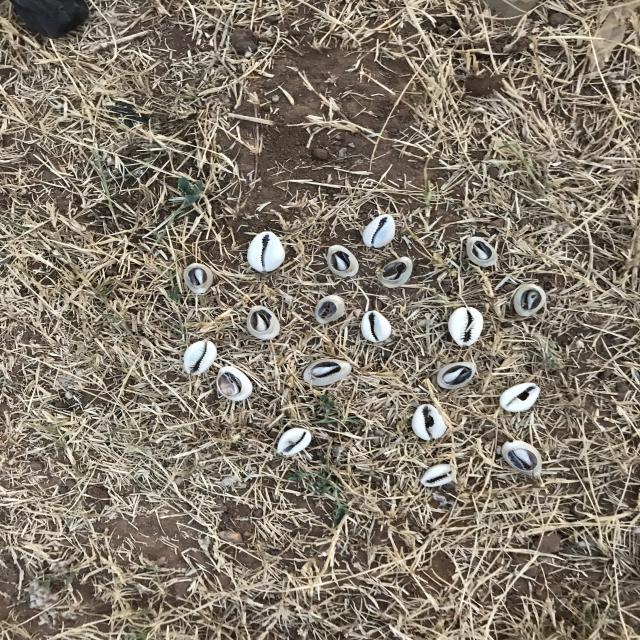facedown: (501, 438, 548, 480), (299, 356, 355, 388), (216, 365, 256, 406), (436, 357, 479, 392), (242, 305, 282, 342), (462, 235, 503, 267), (179, 261, 215, 297), (378, 256, 414, 290), (324, 243, 357, 279), (516, 284, 549, 318), (312, 295, 348, 323)
faceup: (408, 400, 451, 444), (247, 228, 286, 274), (444, 307, 486, 346), (179, 338, 219, 376), (500, 380, 540, 416), (273, 426, 311, 458), (361, 214, 395, 249), (361, 310, 394, 346), (422, 463, 458, 489)
